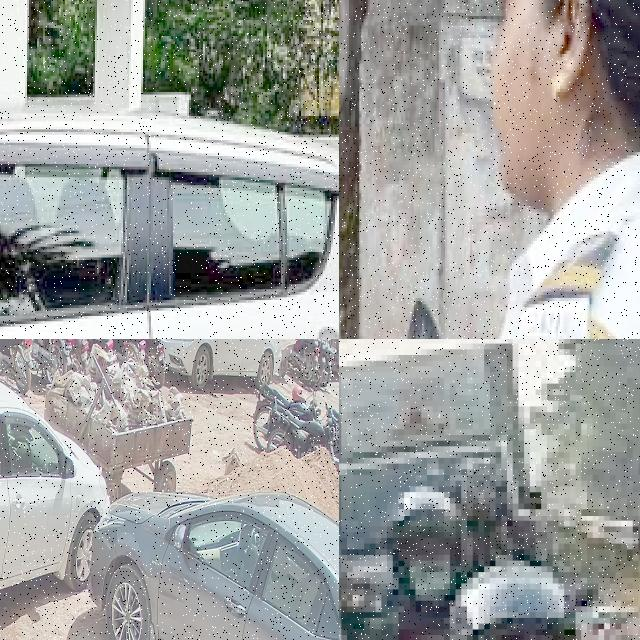bike: (251, 378, 317, 452), (263, 396, 334, 461), (17, 339, 72, 383), (118, 339, 167, 388), (0, 339, 37, 392), (40, 339, 88, 374), (282, 339, 319, 384), (94, 339, 146, 363)
car: (0, 86, 339, 339), (88, 492, 339, 640), (0, 363, 109, 640), (137, 339, 281, 388)
